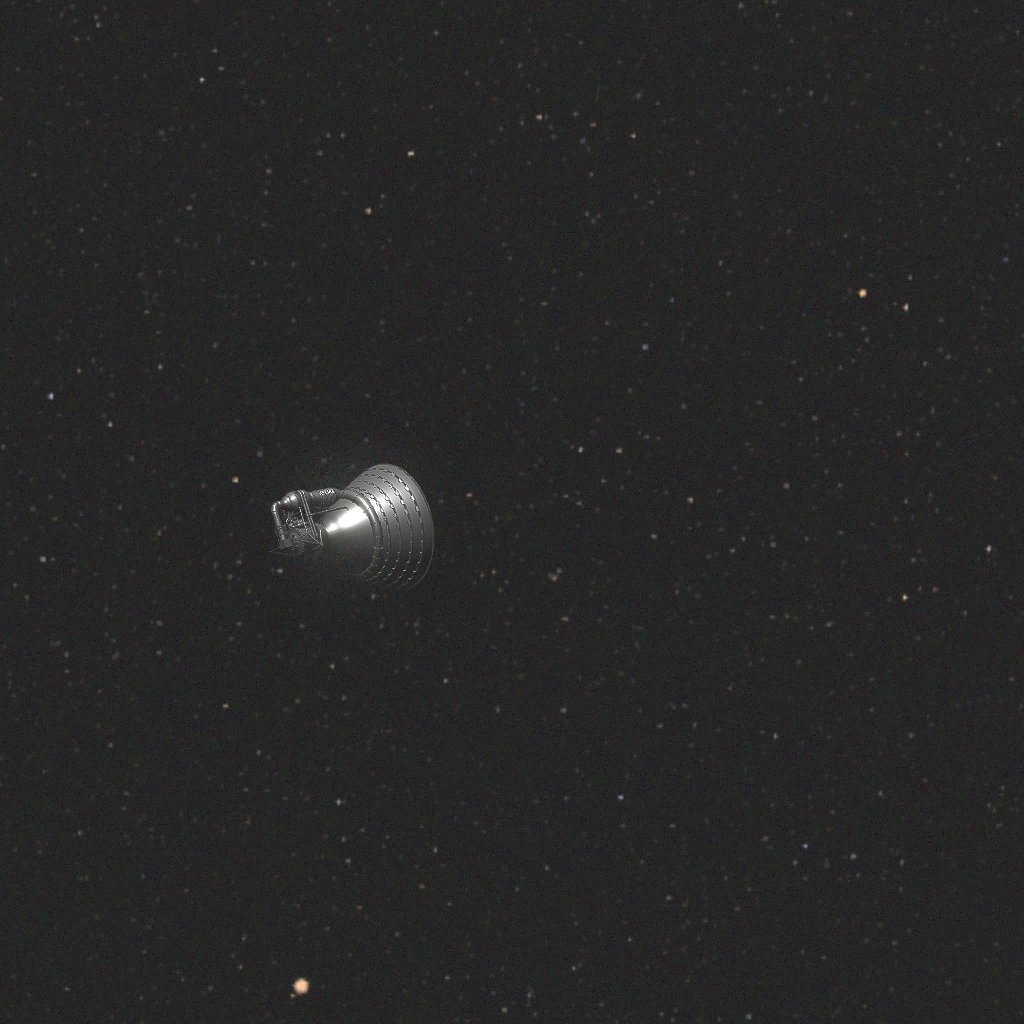debris: (277, 470, 424, 580)
